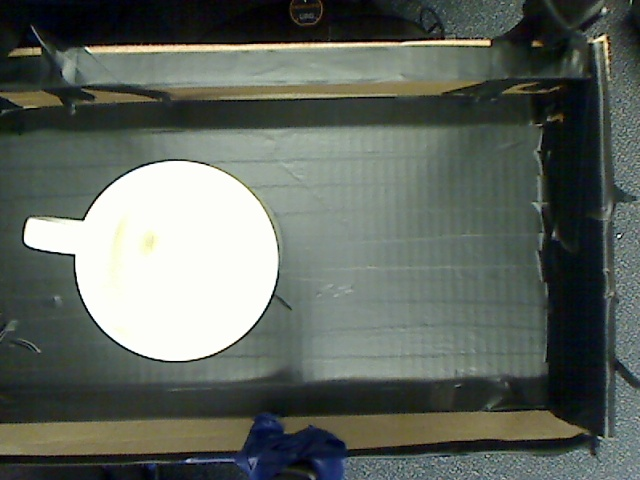mug: (1, 159, 294, 372)
